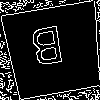B: (28, 26, 67, 77)
